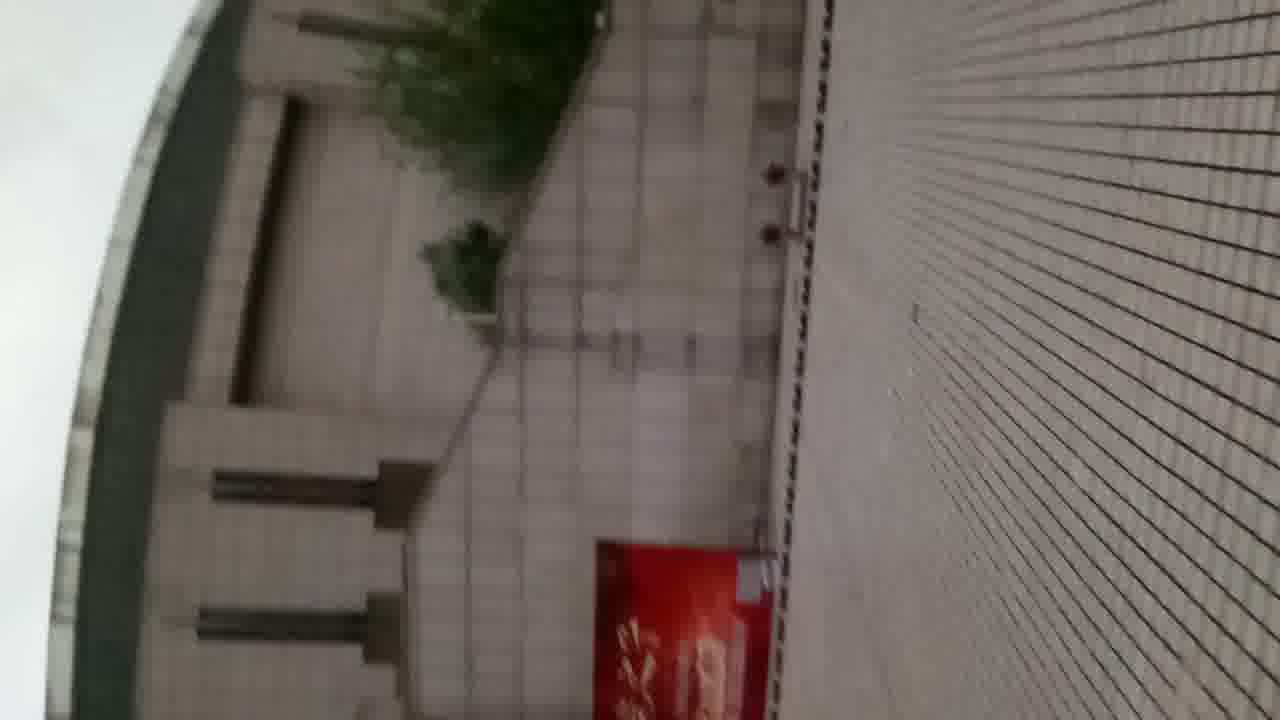zhongtiww: (35, 10, 821, 720)
